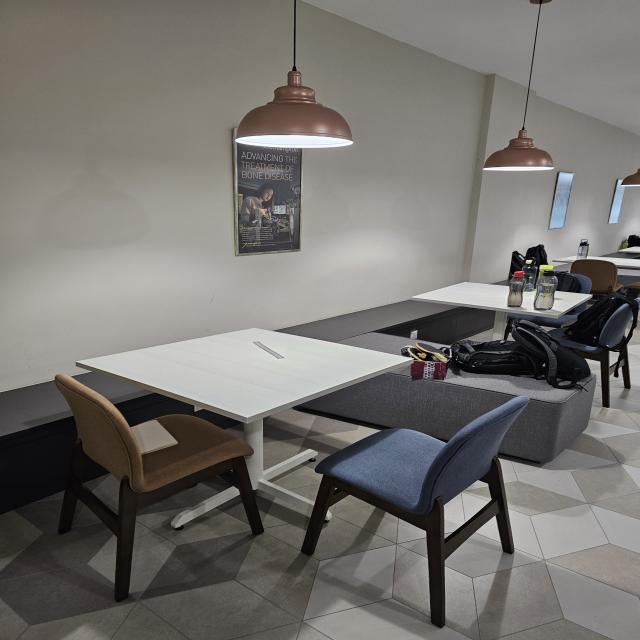obstacle: (72, 280, 638, 624)
